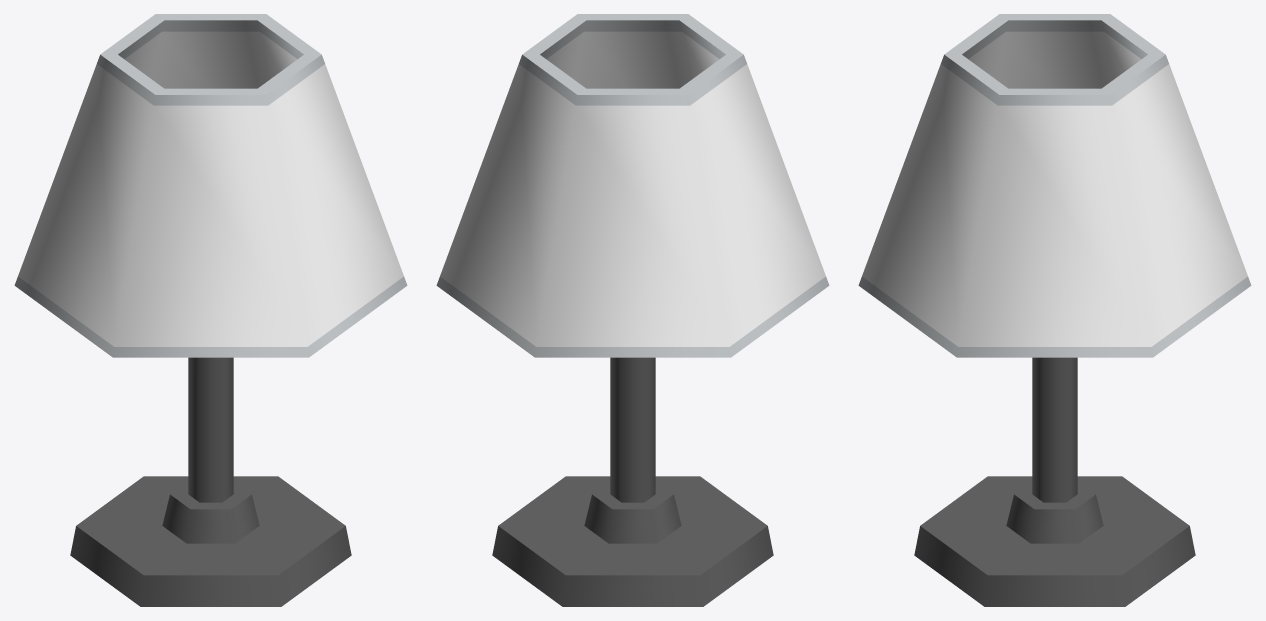
Rendered from SM_Prop_Lamp_01.obj.
3 views of the same model, side by side, from view 1: azimuth 30°, elevation 25°; view 2: azimuth 150°, elevation 25°; view 3: azimuth 270°, elevation 25° (orthographic).
Visible parts, largest first — view 1: SM_Prop_Lamp_01_Mat_Glow_Lamp_Inst, SM_Prop_Lamp_01_Mat_SwatchOverlay_PolygonTown_01_Inst; view 2: SM_Prop_Lamp_01_Mat_Glow_Lamp_Inst, SM_Prop_Lamp_01_Mat_SwatchOverlay_PolygonTown_01_Inst; view 3: SM_Prop_Lamp_01_Mat_Glow_Lamp_Inst, SM_Prop_Lamp_01_Mat_SwatchOverlay_PolygonTown_01_Inst.
Boxes of the visible parts, x1,y1,x2,y2 form: SM_Prop_Lamp_01_Mat_Glow_Lamp_Inst: (18, 31, 403, 346); SM_Prop_Lamp_01_Mat_SwatchOverlay_PolygonTown_01_Inst: (14, 14, 407, 606); SM_Prop_Lamp_01_Mat_Glow_Lamp_Inst: (440, 31, 825, 346); SM_Prop_Lamp_01_Mat_SwatchOverlay_PolygonTown_01_Inst: (436, 14, 829, 606); SM_Prop_Lamp_01_Mat_Glow_Lamp_Inst: (862, 31, 1247, 346); SM_Prop_Lamp_01_Mat_SwatchOverlay_PolygonTown_01_Inst: (858, 14, 1251, 606).
Size of the model in its own units: 0.2989 by 0.4853 by 0.3451.
Materials: 2 (1 with a texture image).
